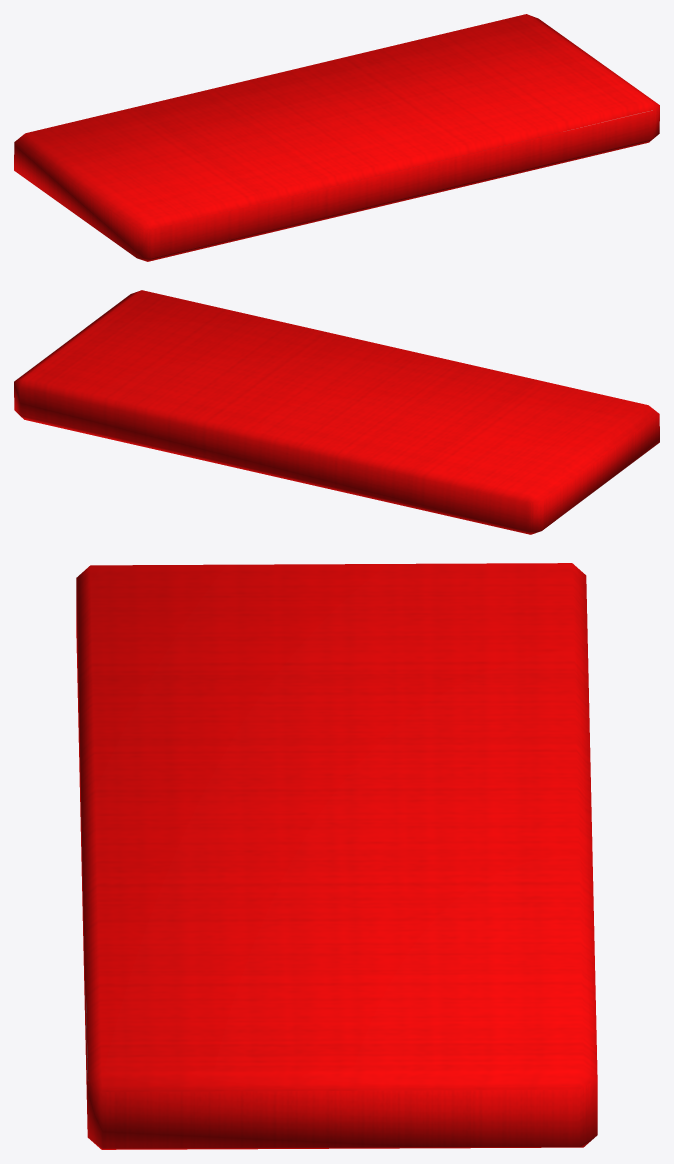
Rendered from M_Home_Garden_Matrass1.fbx.
3 views of the same model, one above another, from view 1: azimuth 30°, elevation 25°; view 2: azimuth 150°, elevation 25°; view 3: azimuth 270°, elevation 25° (orthographic). The views are drawn at different scales.
Visible parts, largest first — view 1: M_Home_Garden_Matrass1; view 2: M_Home_Garden_Matrass1; view 3: M_Home_Garden_Matrass1.
Part boxes in pixels (bbox=[...]): M_Home_Garden_Matrass1: bbox=[14, 14, 659, 261]; M_Home_Garden_Matrass1: bbox=[14, 290, 659, 534]; M_Home_Garden_Matrass1: bbox=[76, 563, 597, 1149].
Size of the model in its own units: 226 by 19.04 by 96.46.
